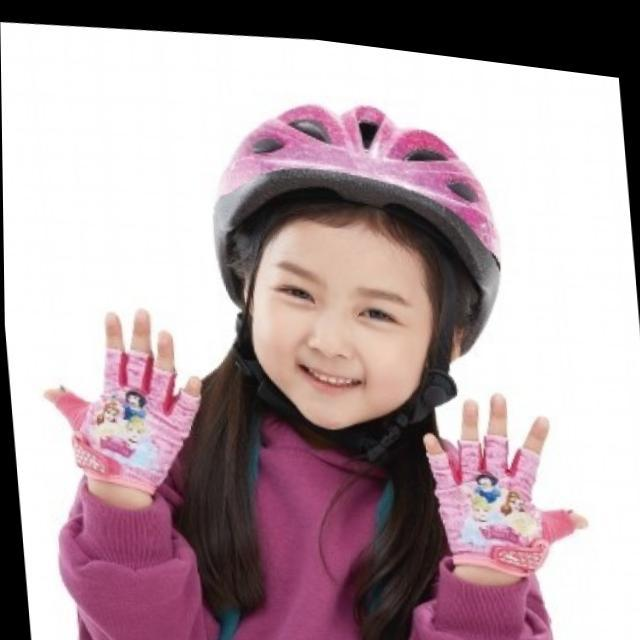Helmet: (197, 96, 503, 432)
